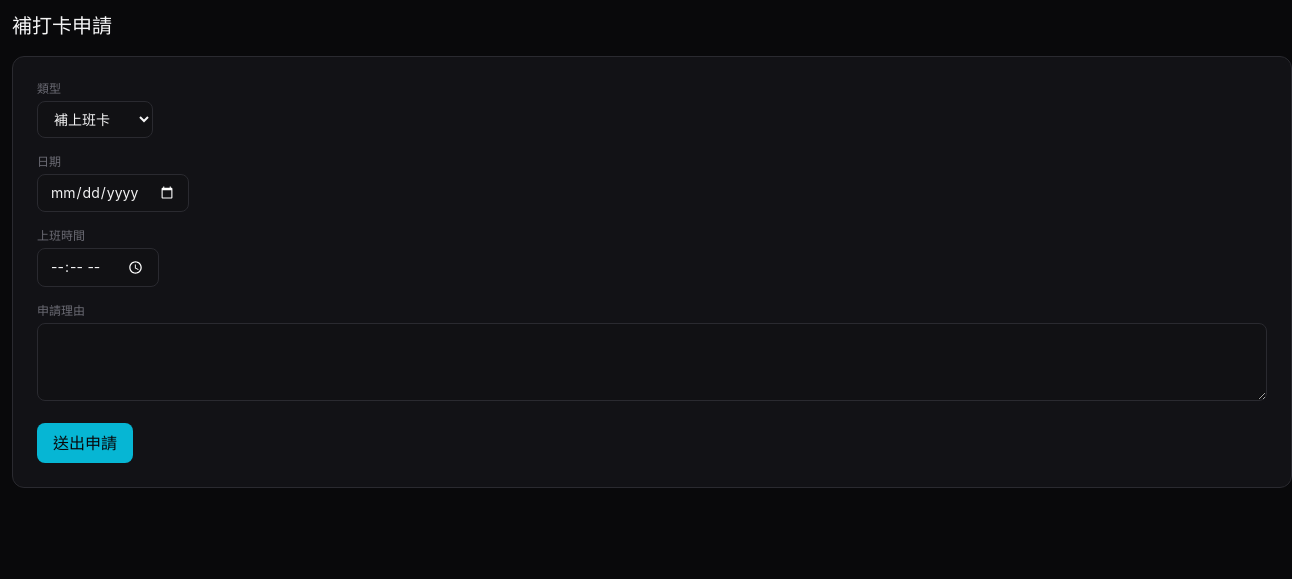
Test: 選擇補上下班卡時同時顯示兩個時間欄位
Select "補上下班卡" in the dropdown labelled "類型" at x=95, y=120, box [37,101,153,138]
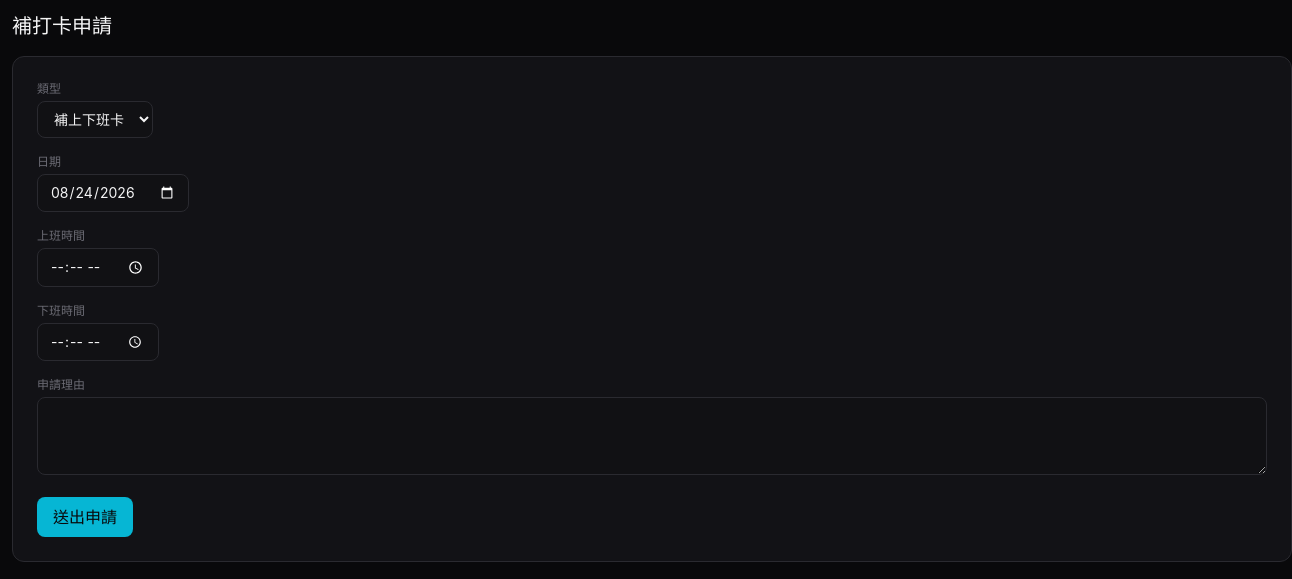
Expected: the time field labelled "上班時間" is shown, [37,248,159,287]
Expected: the time field labelled "下班時間" is shown, [37,323,159,361]
